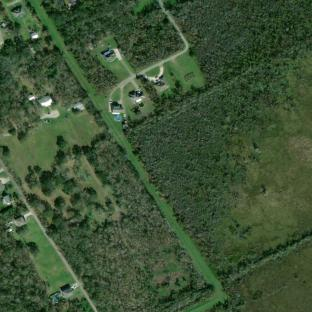Floresta: (126, 0, 312, 236), (41, 0, 182, 93), (27, 197, 120, 302), (0, 39, 86, 140), (0, 230, 91, 312), (219, 236, 312, 288), (150, 283, 210, 312), (36, 166, 78, 195), (208, 297, 245, 312), (25, 166, 36, 188), (54, 150, 64, 160)
